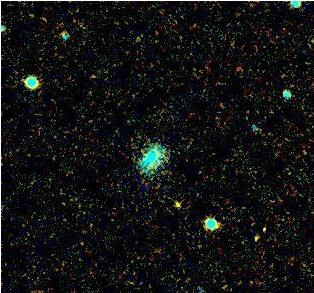star: (164, 189, 194, 219)
